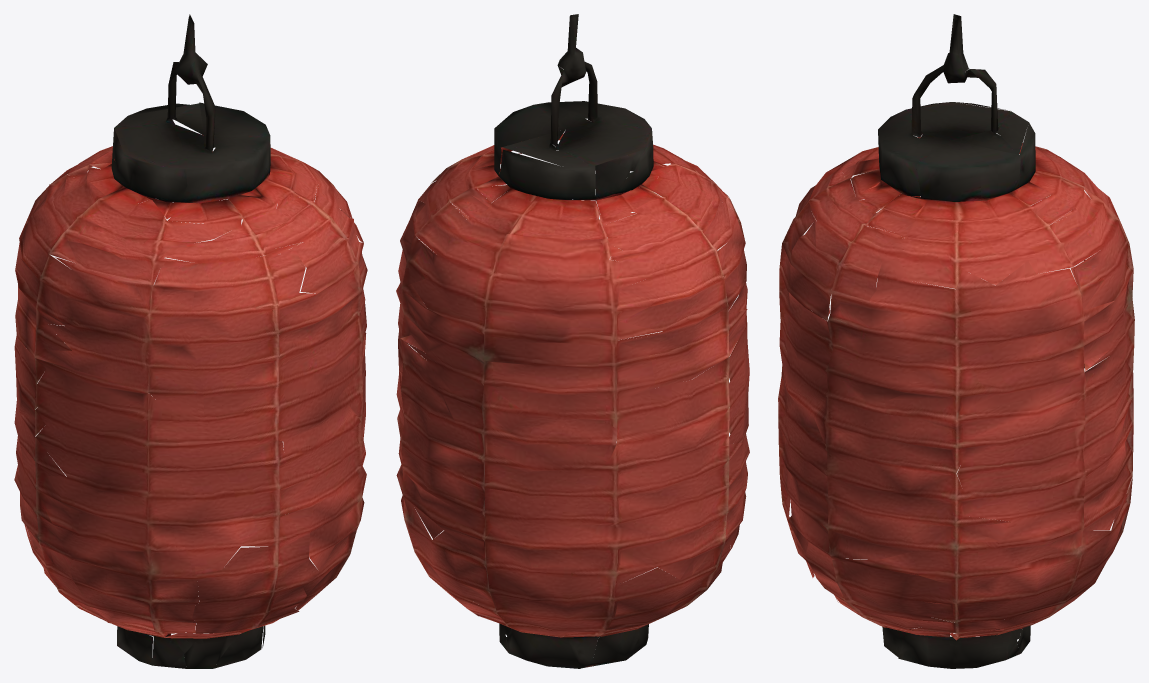
The model's file is chochin.glb.
The picture shows the model from 3 angles, left to right: view 1: azimuth 30°, elevation 25°; view 2: azimuth 150°, elevation 25°; view 3: azimuth 270°, elevation 25°; orthographic projection.
Parts seen in each view (by area): view 1: tripo_node_a9662c34-7875-4d13-b9aa-a86b311bbc96; view 2: tripo_node_a9662c34-7875-4d13-b9aa-a86b311bbc96; view 3: tripo_node_a9662c34-7875-4d13-b9aa-a86b311bbc96.
Part boxes in pixels (left/top/right/bottom): tripo_node_a9662c34-7875-4d13-b9aa-a86b311bbc96: left=14, top=14, right=367, bottom=668; tripo_node_a9662c34-7875-4d13-b9aa-a86b311bbc96: left=396, top=14, right=749, bottom=668; tripo_node_a9662c34-7875-4d13-b9aa-a86b311bbc96: left=778, top=14, right=1134, bottom=668.
Bounding box in the file's own units: 0.2628 × 0.5 × 0.2598.
Materials: 1 (1 with a texture image).
